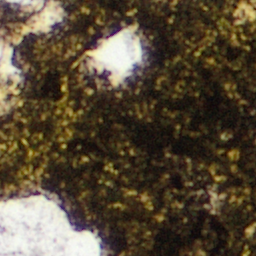cement_matrix: (0, 0, 255, 255), (83, 25, 145, 86), (0, 3, 28, 34)
gravel_crushed_stones: (0, 0, 63, 113), (0, 191, 105, 255), (84, 26, 144, 85), (238, 3, 255, 19)
